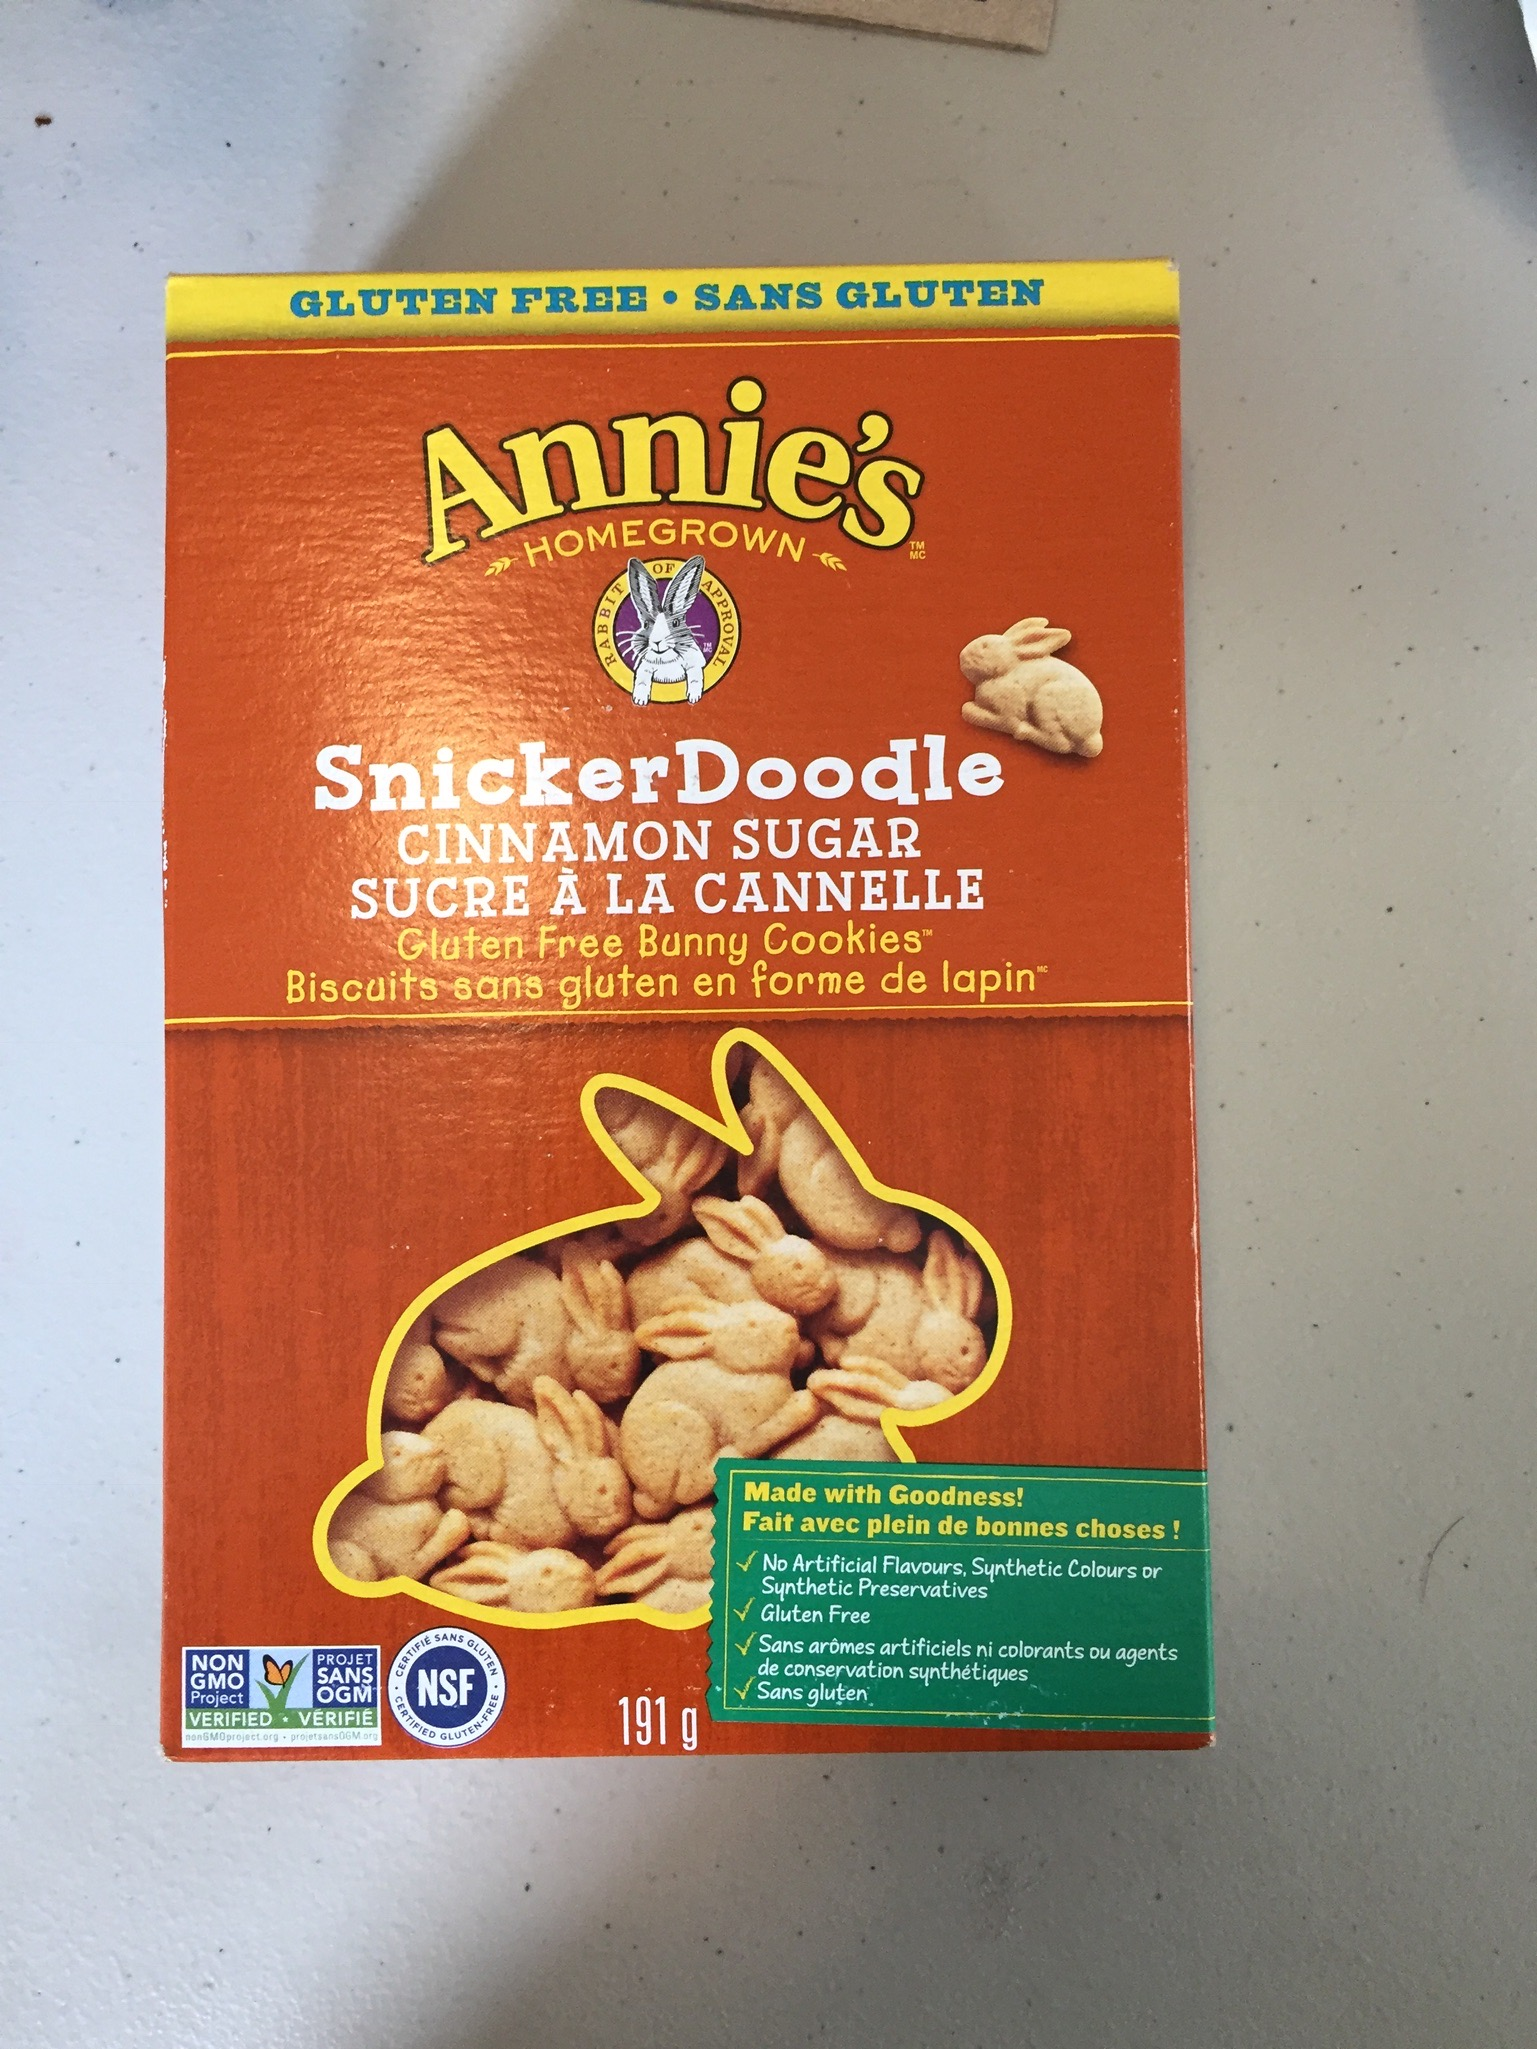annies_snickerdoodles_cinnamon_sugar: (173, 278, 1190, 1736)
